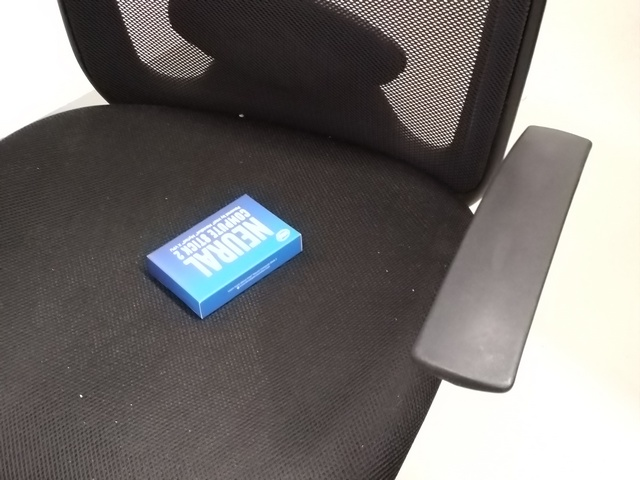box: (145, 191, 304, 321)
